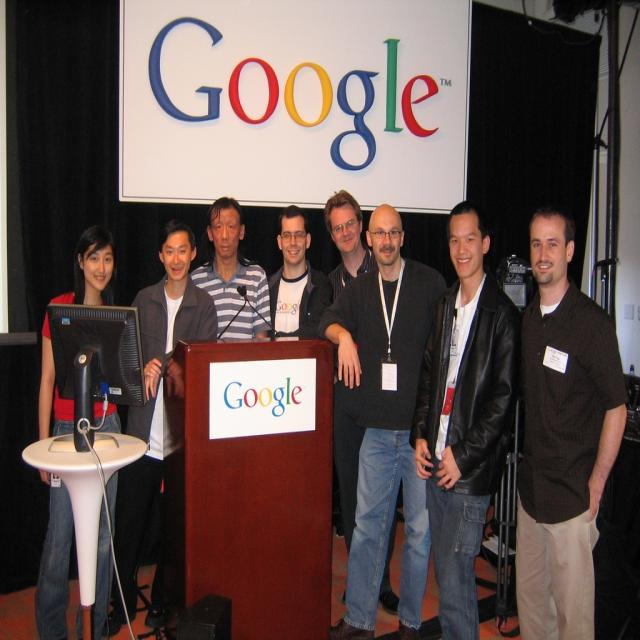google: (143, 13, 443, 177), (222, 375, 305, 421)
